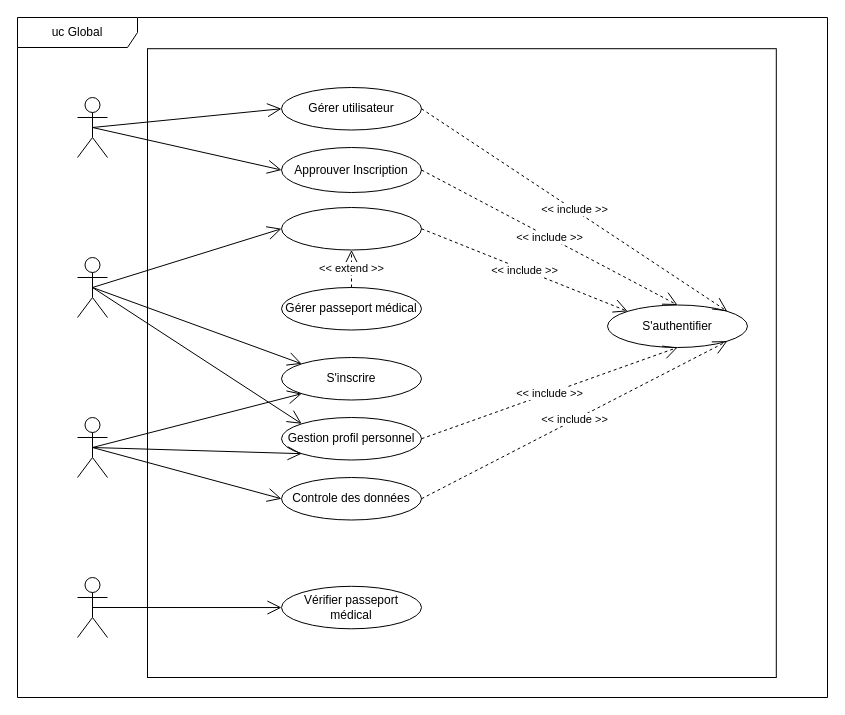
The diagram is 845 pixels wide and 715 high, and some of its shapes have lost their labels. The centre of each missing label's shape, as x and y in pixels:
"Administrateur" belongs at (x=92, y=127).
"Gérer patient" belongs at (x=351, y=228).
"Médecin" belongs at (x=92, y=287).
"Patient" belongs at (x=92, y=447).
"Vérificateur" belongs at (x=92, y=607).
